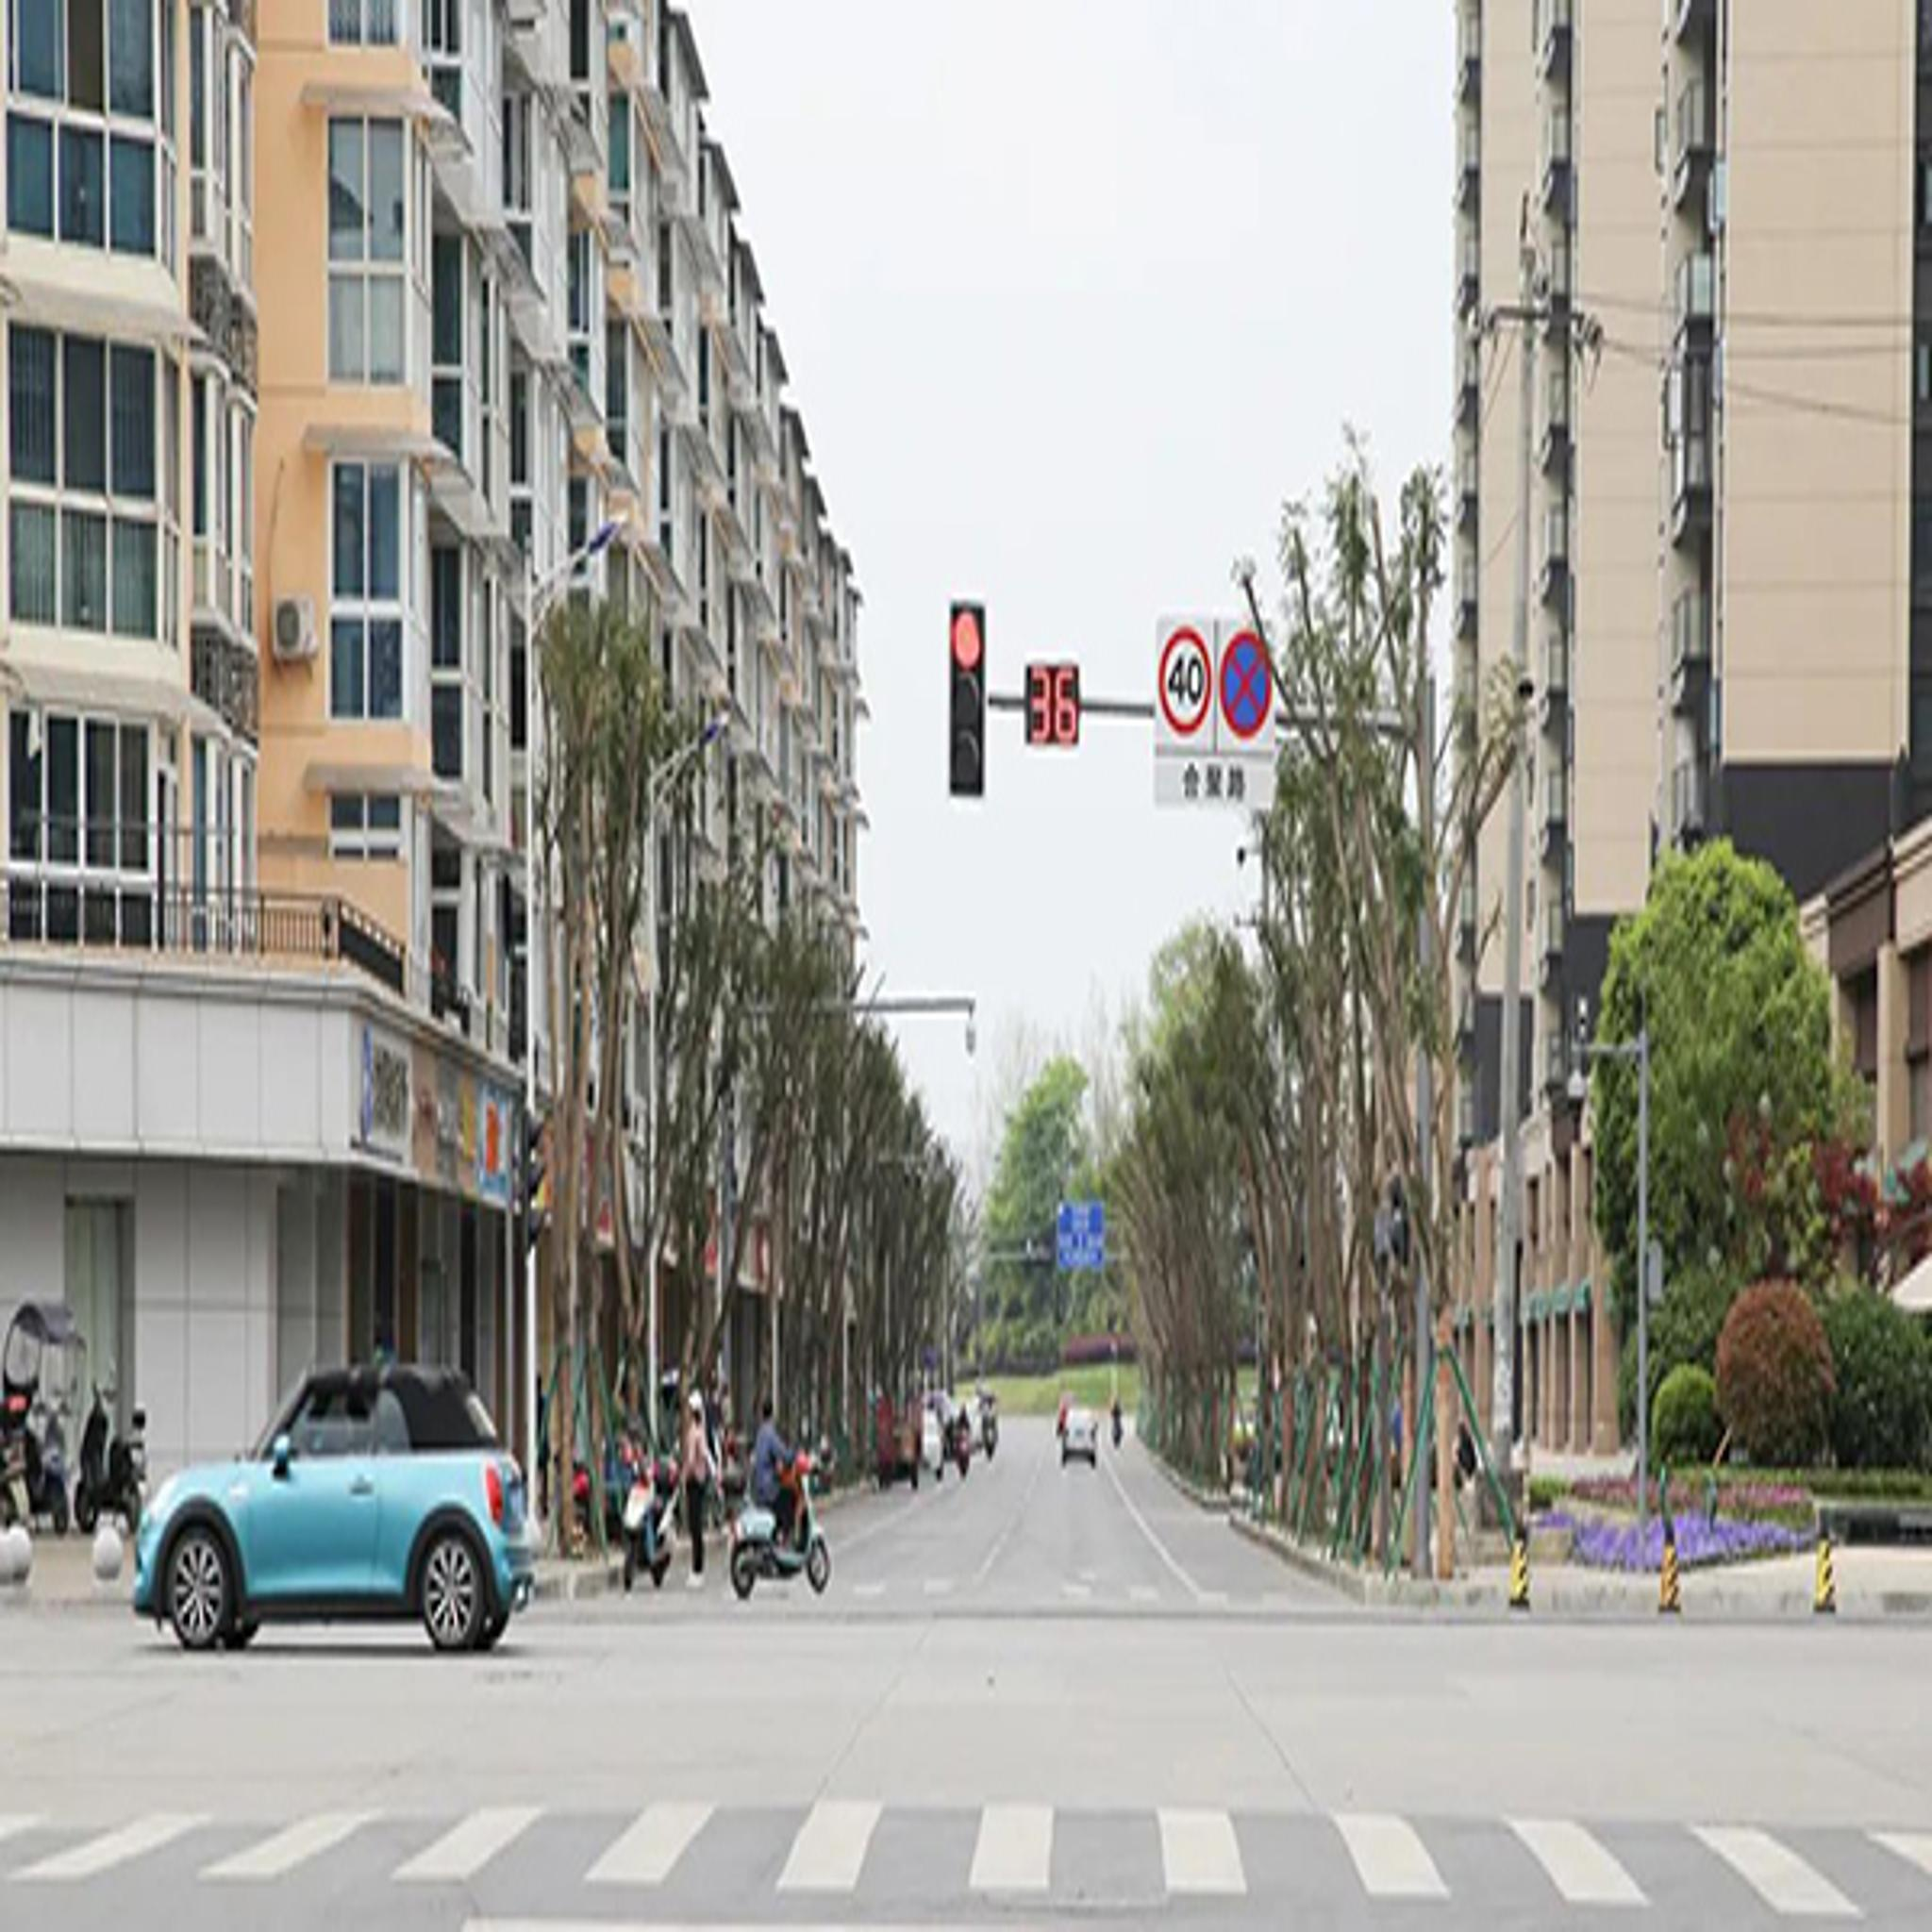pl40: (1159, 626, 1210, 736)
pn: (1221, 632, 1270, 738)
